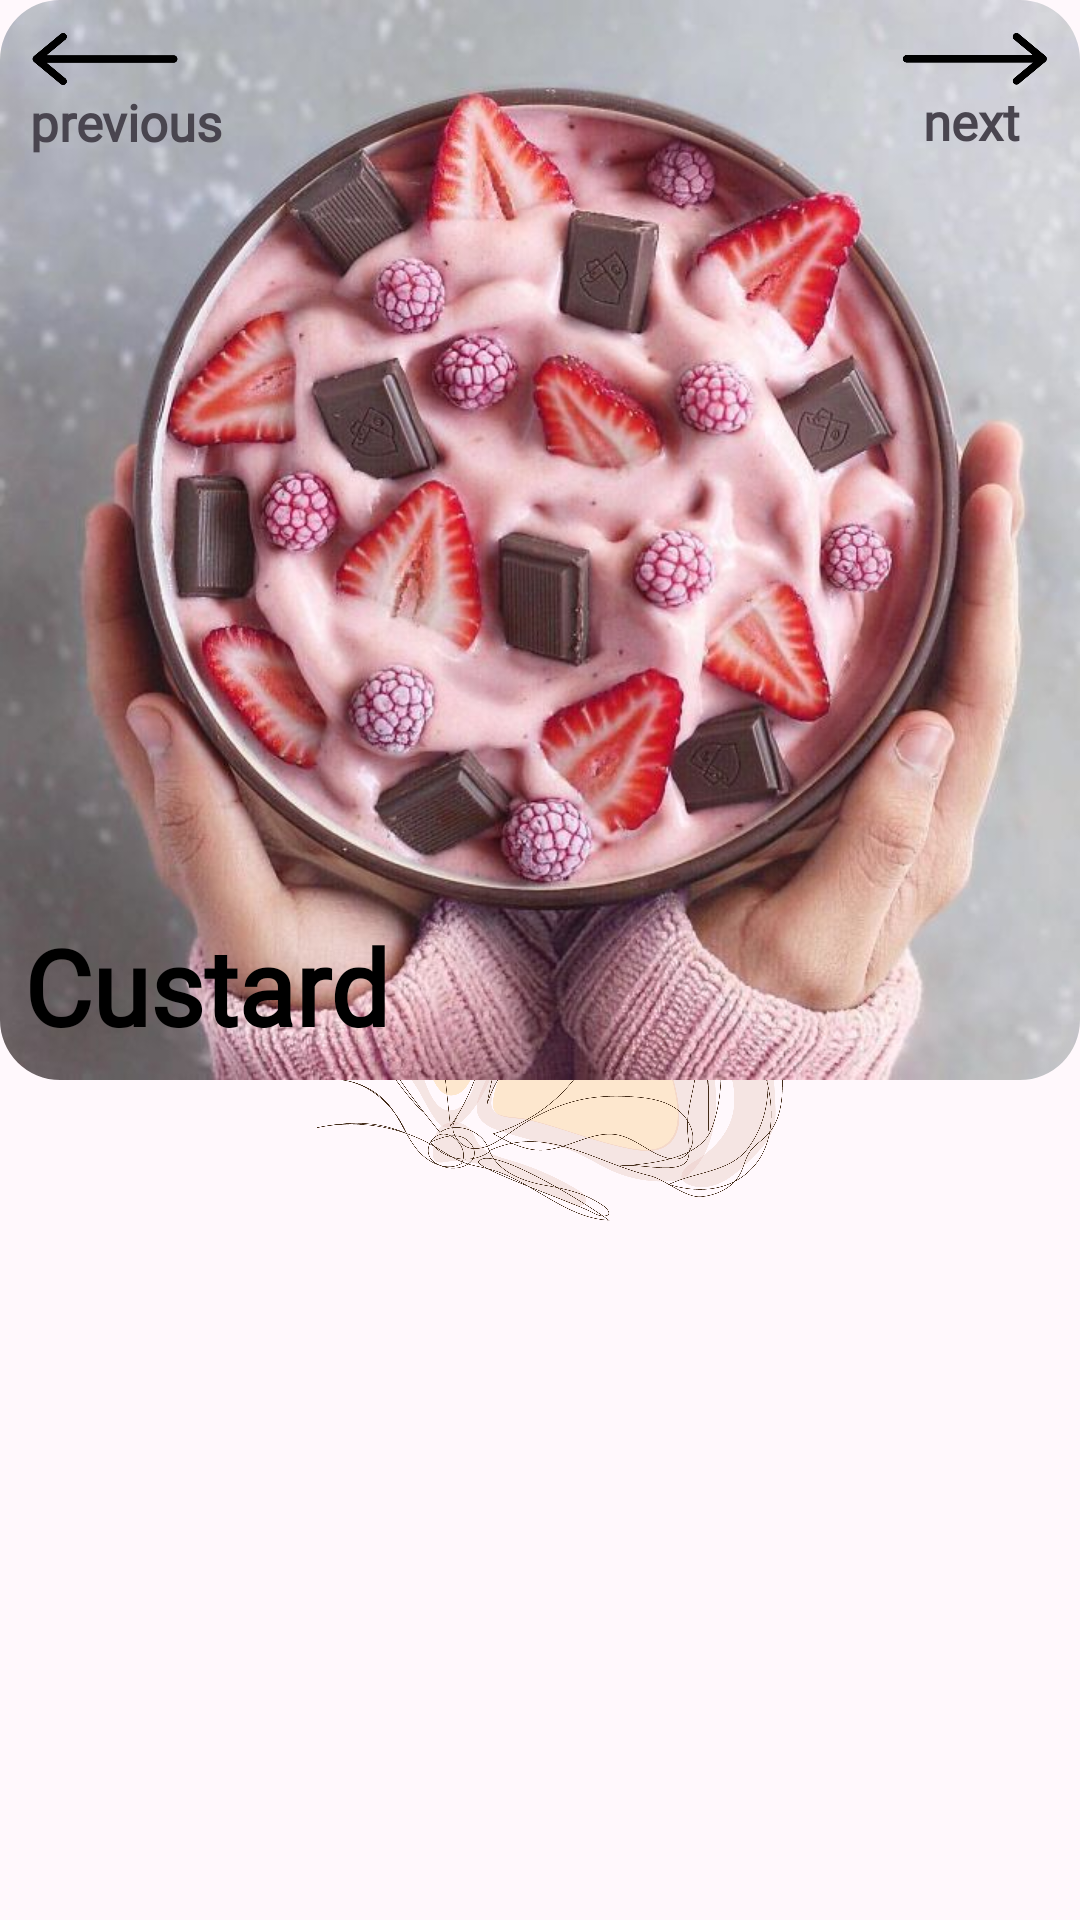

Named icons in this screenshot (1080x1920) and their bounding boxes, [left=x1, top=y1, right=x2, bottom=y2]:
left: [left=32, top=30, right=178, bottom=85]
right: [left=903, top=33, right=1047, bottom=85]
